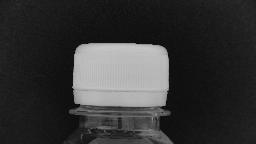Good Cap: (66, 36, 174, 119)
